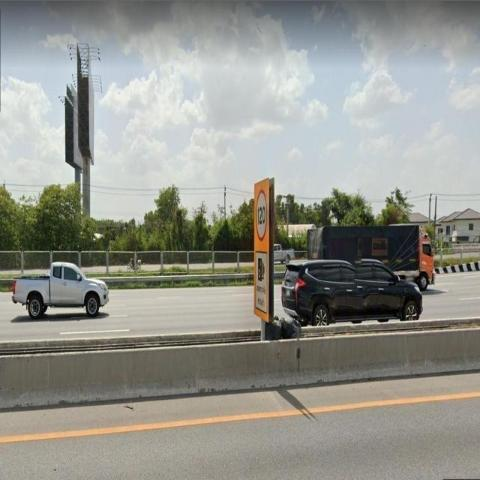car: (282, 259, 424, 326)
pickup-truck: (11, 258, 111, 319)
van: (306, 224, 436, 291)
